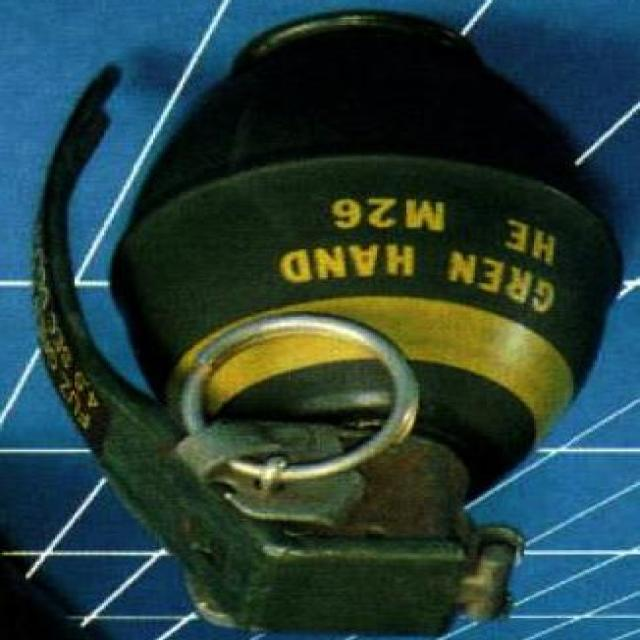grenade: (33, 10, 626, 640)
